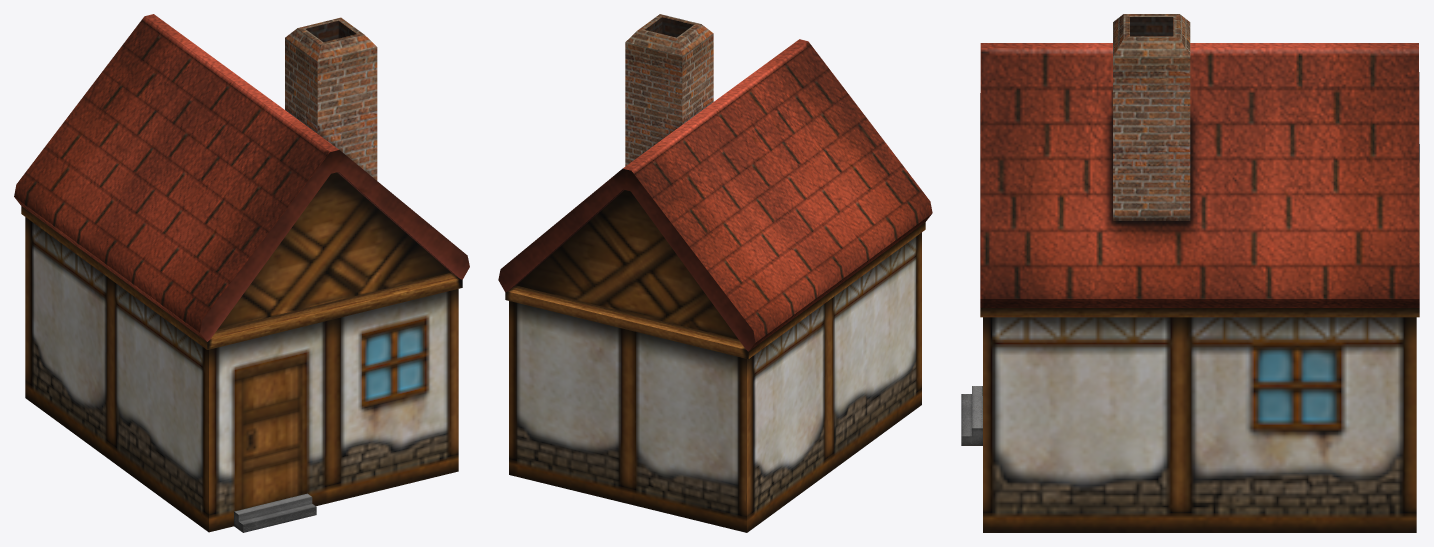
Rendered from house_def.fbx.
The picture shows the model from 3 angles, left to right: view 1: azimuth 30°, elevation 25°; view 2: azimuth 150°, elevation 25°; view 3: azimuth 270°, elevation 25°; orthographic projection. The views are drawn at different scales.
Visible parts, largest first — view 1: polySurface18; view 2: polySurface18; view 3: polySurface18.
Boxes of the visible parts, box(x1,y1,x2,y2) form: polySurface18: box(14, 14, 469, 532); polySurface18: box(498, 14, 932, 532); polySurface18: box(961, 14, 1419, 532).
Size of the model in its own units: 358 by 509 by 446.
